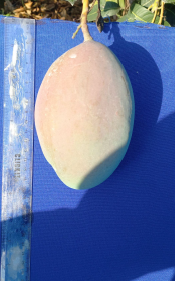Mango-sano: (35, 24, 134, 189)
